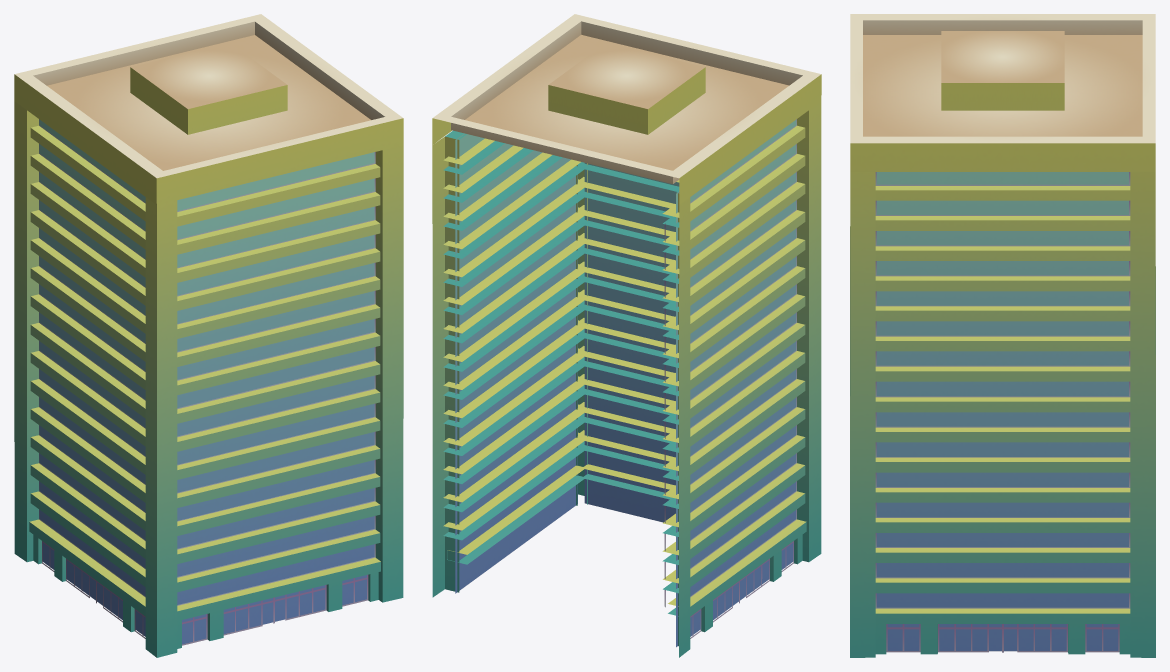
3 views of the same model, side by side, from view 1: azimuth 30°, elevation 25°; view 2: azimuth 150°, elevation 25°; view 3: azimuth 270°, elevation 25° (orthographic). The views are drawn at different scales.
Parts seen in each view (by area): view 1: SM_16F_04; view 2: SM_16F_04; view 3: SM_16F_04.
Part boxes in pixels (<box>): SM_16F_04: <box>14,14,403,657</box>; SM_16F_04: <box>432,14,821,657</box>; SM_16F_04: <box>850,14,1155,657</box>.
Bounding box in the file's own units: 28.54 × 55.25 × 28.54.
